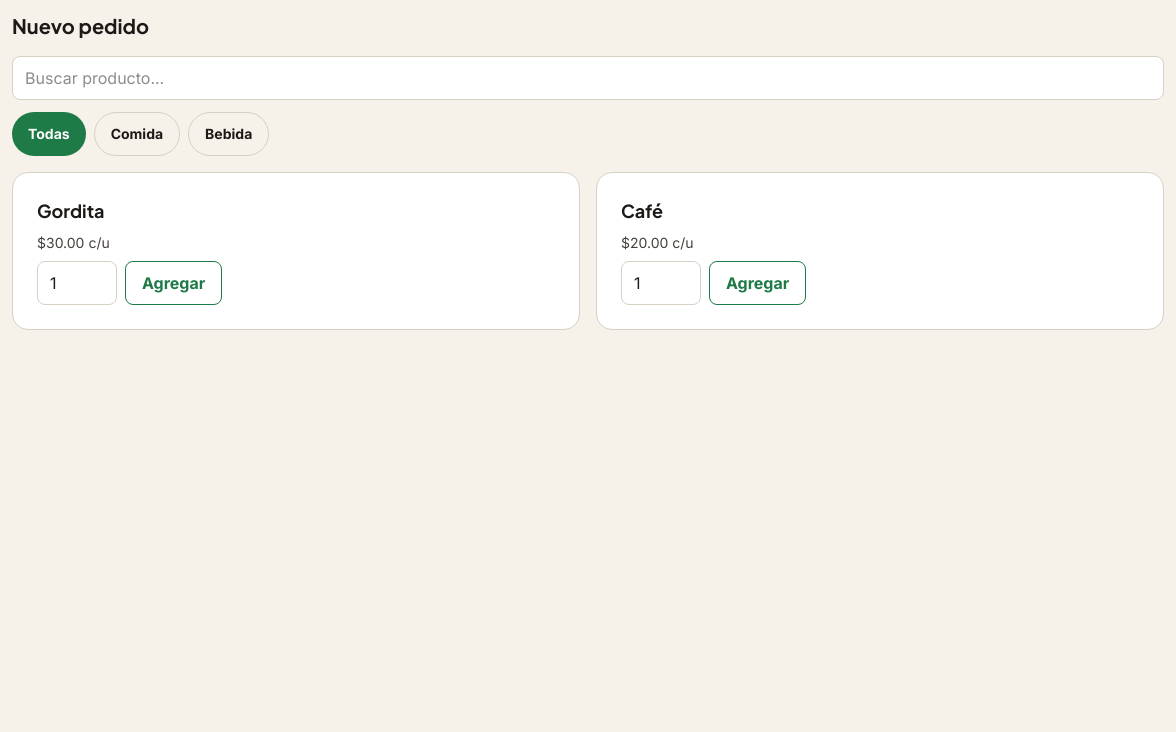
Test case: caja rediseñada › resumen desglosa y cobra en un paso con ticket
The image size is (1176, 732).
expect the heading "Gordita" is shown: met, box [37,197,104,225]
Click the button with aria-label "Agregar Gordita". click: (174, 283)
box: [125,261,222,305]
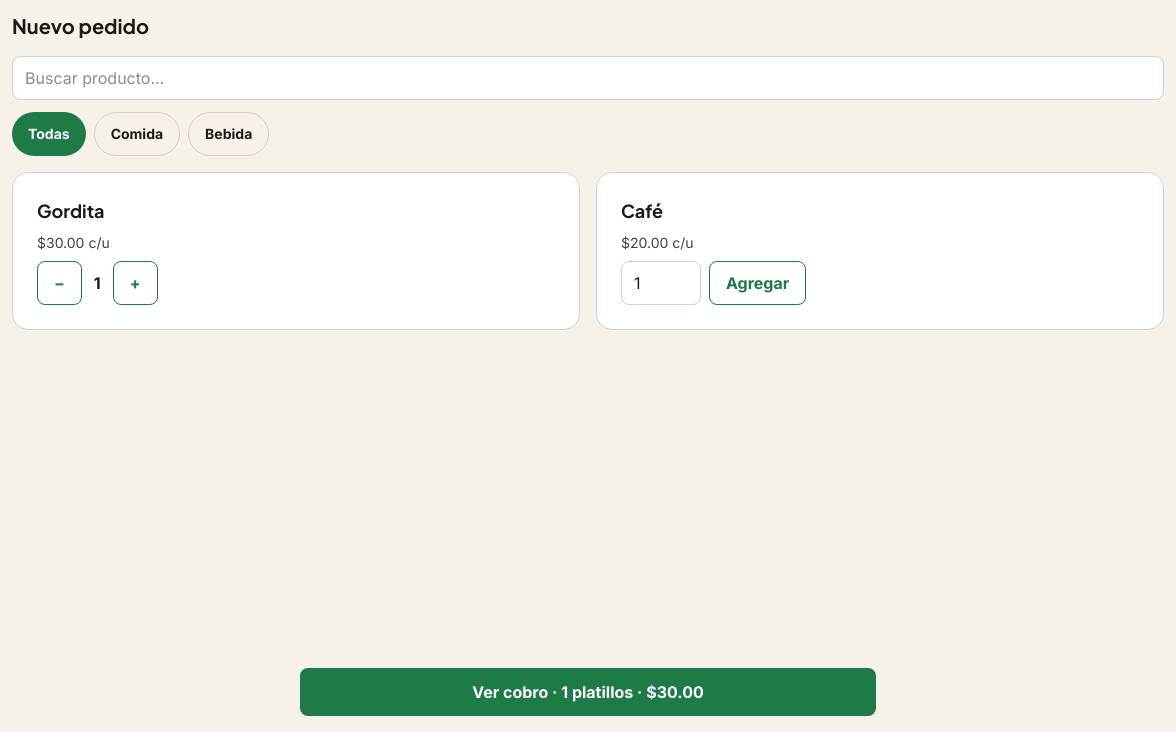
Click the link "Ver cobro · 1 platillos · $30.00". click: (588, 692)
box: [300,668,876,716]
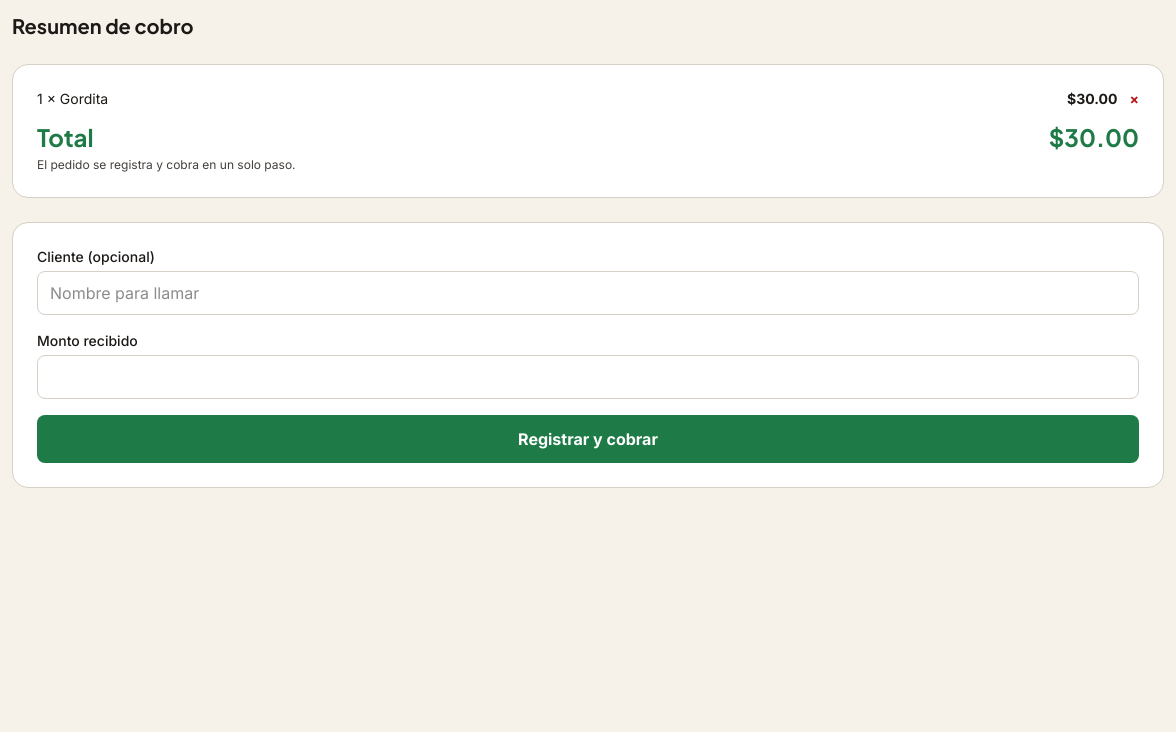
expect the heading "Resumen de cobro" is shown: met, box [12,13,194,38]
Type "100" into the number field labelled "Monto recibido". click: (588, 377)
box: [37,355,1139,399]
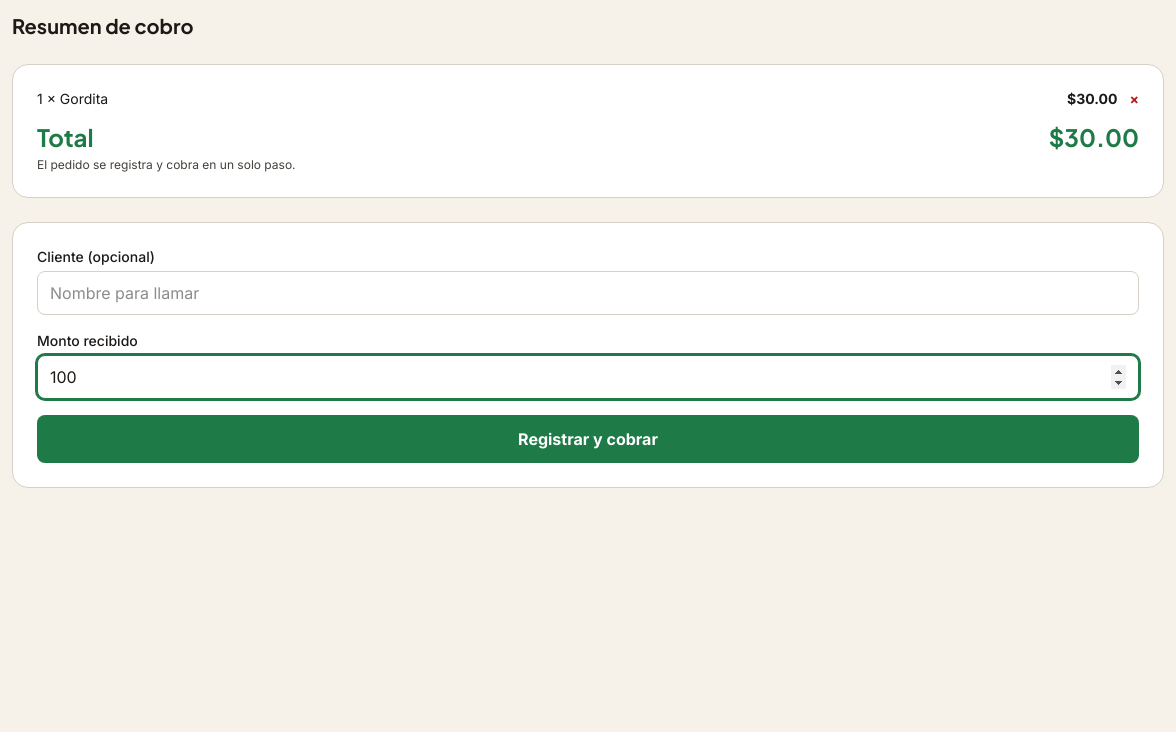
Click the button "Registrar y cobrar". click: (588, 439)
box: [37,415,1139,463]
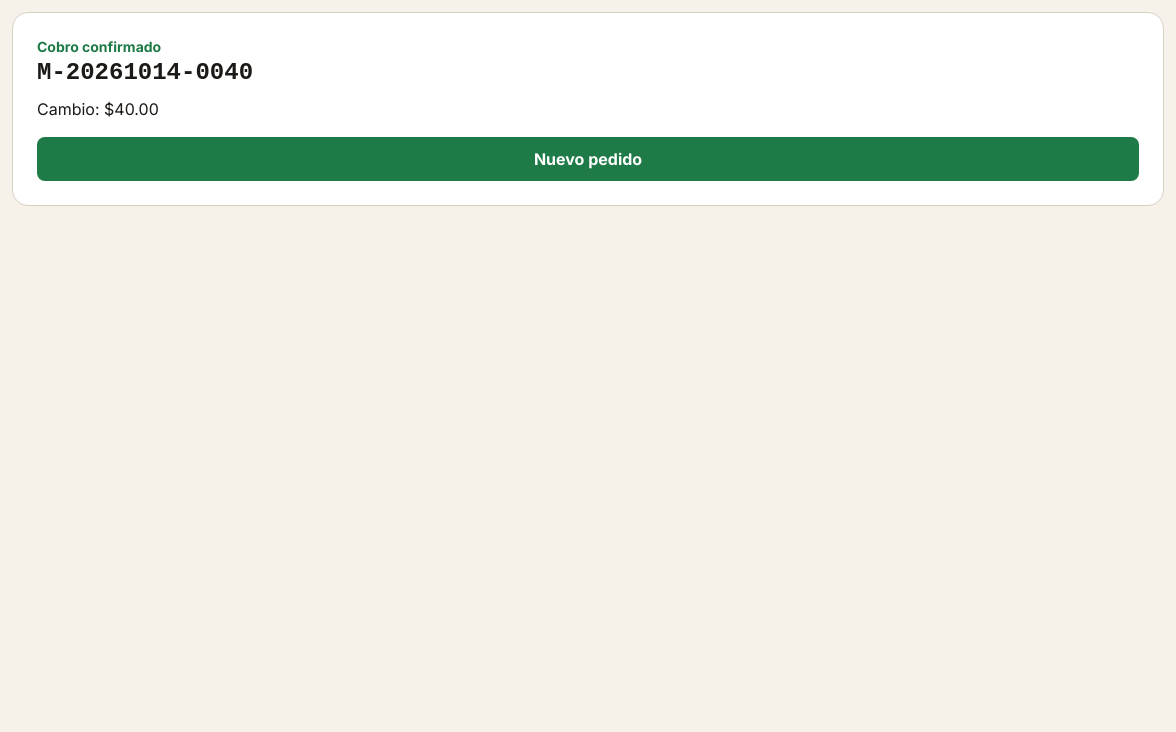
expect the heading "M-20261014-0040" is shown: met, box [37,59,253,86]
